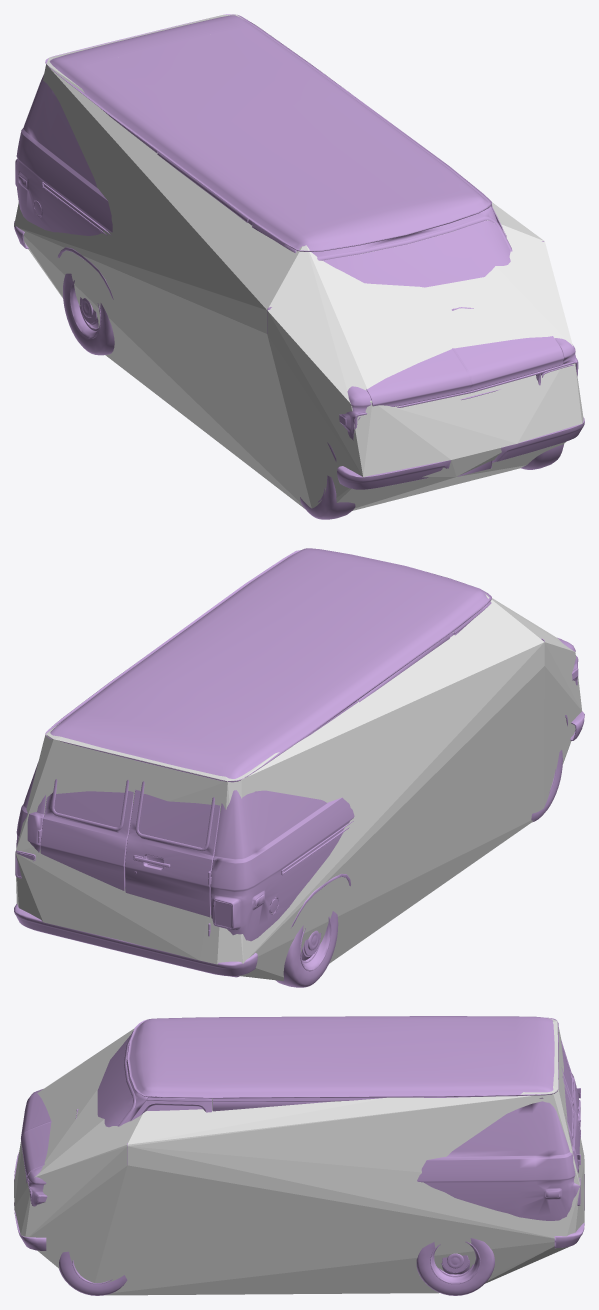
File: salt_van.glb
The picture shows the model from 3 angles, top to bottom: view 1: azimuth 30°, elevation 25°; view 2: azimuth 150°, elevation 25°; view 3: azimuth 270°, elevation 25°; orthographic projection. The views are drawn at different scales.
Parts seen in each view (by area): view 1: salt_van_col, SM_CargoVan_Body_LOD0, SM_CargoVan_Bonnet_LOD0, SM_CargoVan_Glass_Front_1, SM_CargoVan_Wheel_LOD0_2, SM_CargoVan_Wheel_LOD0_3; view 2: salt_van_col, SM_CargoVan_Body_LOD0, SM_CargoVan_Door_RR_LOD0, SM_CargoVan_Door_RL_LOD0, SM_CargoVan_Glass_Back_R_1, SM_CargoVan_Wheel_LOD0_2, SM_CargoVan_Glass_Back_L_1, SM_CargoVan_GlassBody_1; view 3: salt_van_col, SM_CargoVan_Body_LOD0, SM_CargoVan_Wheel_LOD0, SM_CargoVan_Glass_Front_1, SM_CargoVan_Bonnet_LOD0, SM_CargoVan_Wheel_LOD0_1, SM_CargoVan_Door_L1_LOD0, SM_CargoVan_Door_RR_LOD0, SM_CargoVan_Door_RL_LOD0.
Boxes of the visible parts, x1,y1,x2,y2 form: salt_van_col: [14, 14, 583, 510]; SM_CargoVan_Body_LOD0: [14, 14, 584, 489]; SM_CargoVan_Bonnet_LOD0: [366, 336, 563, 406]; SM_CargoVan_Glass_Front_1: [323, 220, 510, 287]; SM_CargoVan_Wheel_LOD0_2: [63, 273, 114, 355]; SM_CargoVan_Wheel_LOD0_3: [300, 475, 355, 519]; salt_van_col: [15, 593, 581, 981]; SM_CargoVan_Body_LOD0: [14, 548, 584, 977]; SM_CargoVan_Door_RR_LOD0: [125, 781, 220, 930]; SM_CargoVan_Door_RL_LOD0: [38, 779, 133, 890]; SM_CargoVan_Glass_Back_R_1: [138, 794, 211, 847]; SM_CargoVan_Wheel_LOD0_2: [276, 911, 338, 987]; SM_CargoVan_Glass_Back_L_1: [54, 791, 124, 827]; SM_CargoVan_GlassBody_1: [17, 668, 578, 927]; salt_van_col: [14, 1018, 584, 1295]; SM_CargoVan_Body_LOD0: [14, 1016, 584, 1250]; SM_CargoVan_Wheel_LOD0: [416, 1238, 494, 1295]; SM_CargoVan_Glass_Front_1: [97, 1035, 132, 1127]; SM_CargoVan_Bonnet_LOD0: [21, 1093, 51, 1181]; SM_CargoVan_Wheel_LOD0_1: [59, 1251, 127, 1295]; SM_CargoVan_Door_L1_LOD0: [127, 1097, 211, 1164]; SM_CargoVan_Door_RR_LOD0: [561, 1041, 580, 1134]; SM_CargoVan_Door_RL_LOD0: [562, 1076, 580, 1166].
Size of the model in its own units: 2.68 by 2.34 by 5.93.
